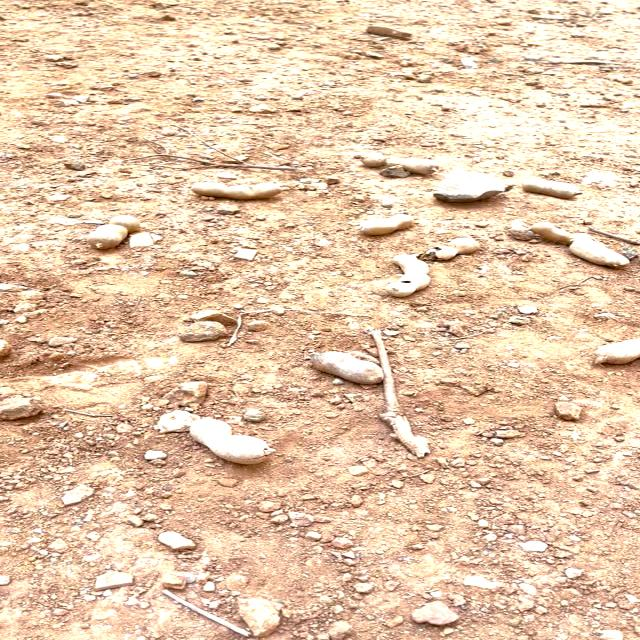tamarind: (187, 415, 287, 470), (532, 220, 630, 271), (313, 347, 392, 390), (387, 252, 433, 298), (89, 213, 141, 251), (360, 154, 443, 176), (514, 176, 590, 200), (193, 182, 286, 198), (360, 213, 416, 238)
